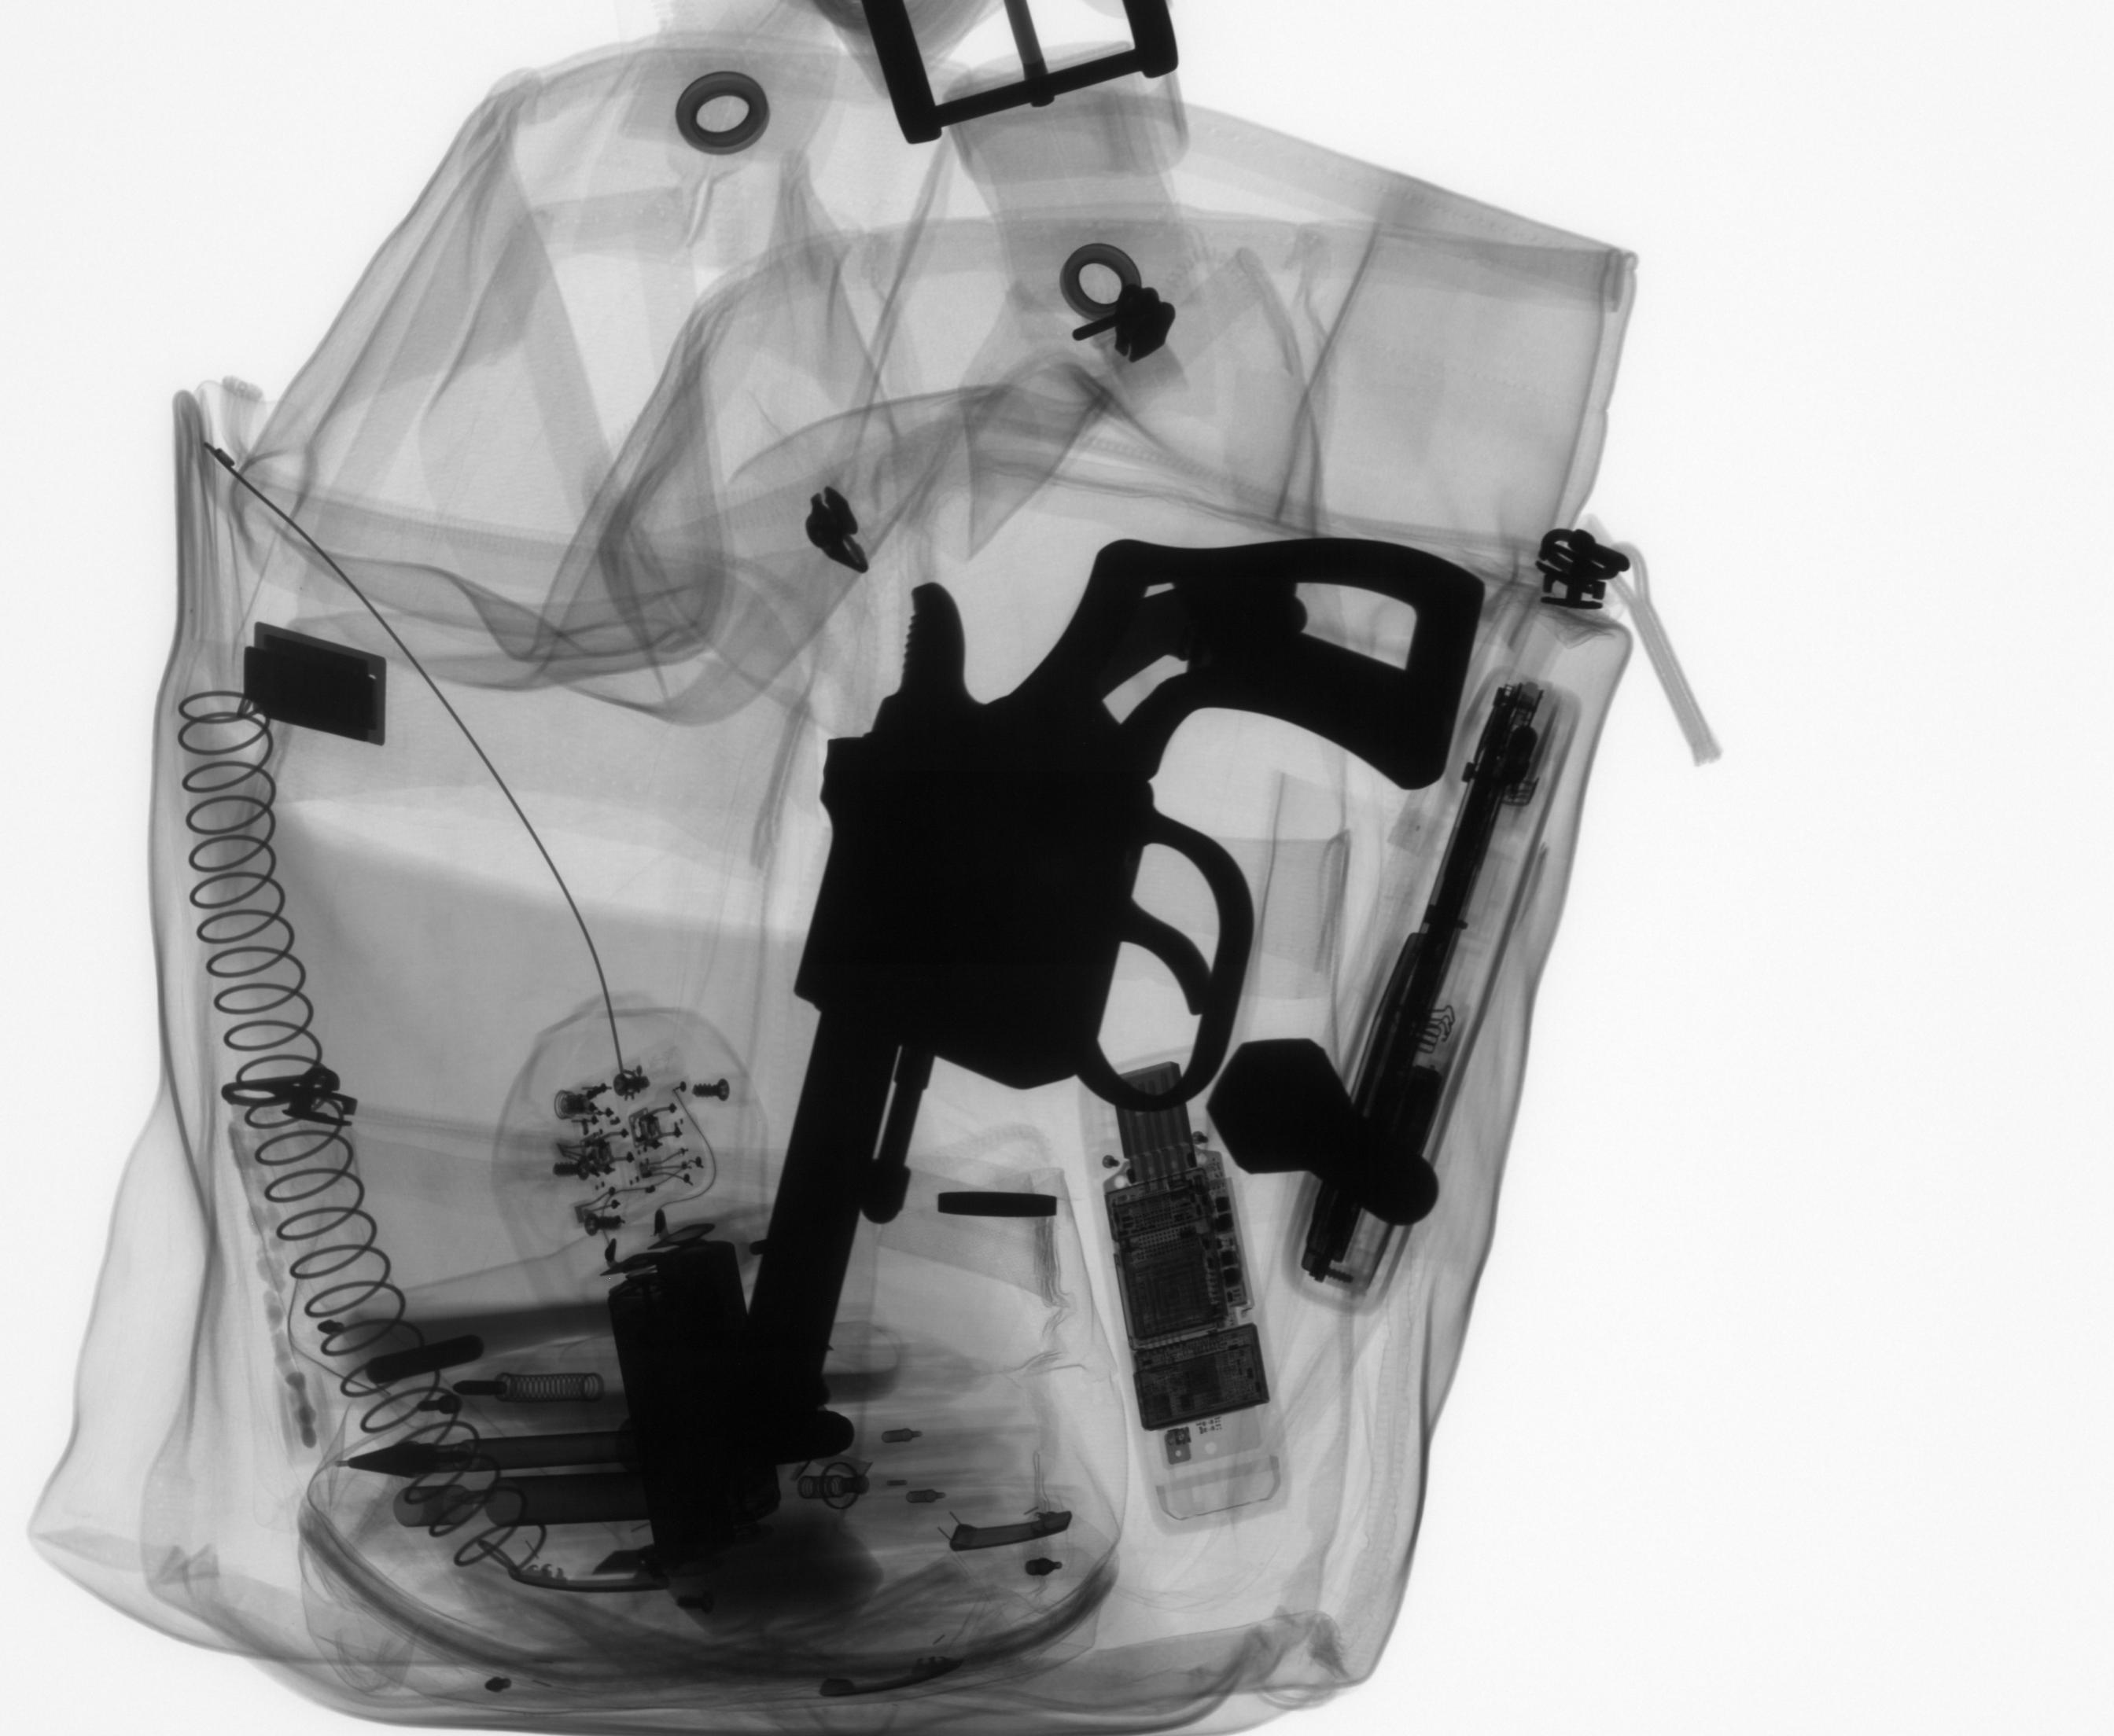Handgun: (724, 525, 1500, 1415)
